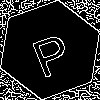P: (25, 25, 75, 79)
